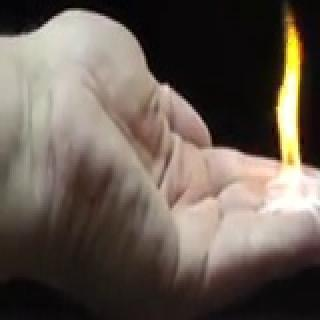fire: (267, 101, 303, 219)
